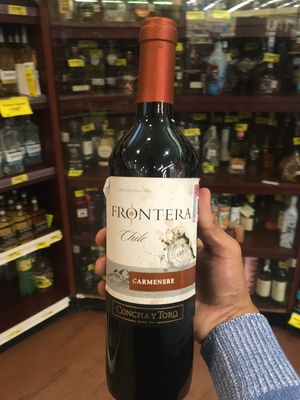frontera carmenere: (105, 22, 208, 399)
